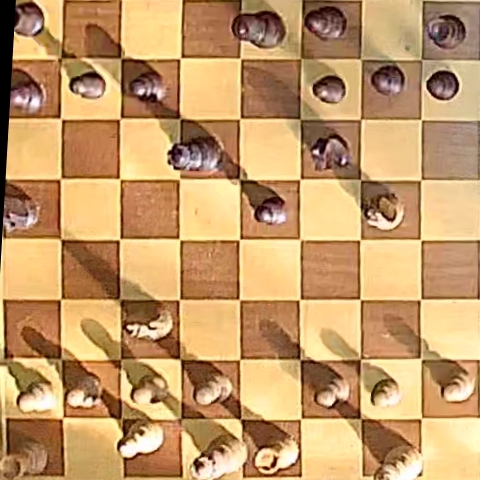black-bishop: (304, 5, 347, 40)
black-king: (233, 11, 285, 48)
black-knight: (4, 193, 40, 233), (311, 134, 349, 170)
black-pawn: (11, 77, 47, 113), (130, 71, 166, 102), (371, 65, 405, 96), (426, 70, 459, 100), (312, 75, 346, 104), (70, 72, 105, 99), (255, 197, 287, 225)
black-queen: (168, 137, 223, 171)
black-rook: (426, 14, 466, 50), (14, 1, 44, 36)
white-bishop: (119, 420, 163, 458)
white-king: (376, 444, 423, 479)
white-knight: (363, 192, 404, 230), (125, 309, 173, 341)
white-pawn: (193, 371, 232, 406), (17, 381, 56, 414), (66, 376, 102, 410), (441, 367, 475, 402), (316, 375, 351, 408), (132, 374, 169, 405), (371, 378, 401, 408)
white-queen: (191, 434, 246, 480)
white-rook: (2, 438, 48, 478), (255, 434, 299, 474)
